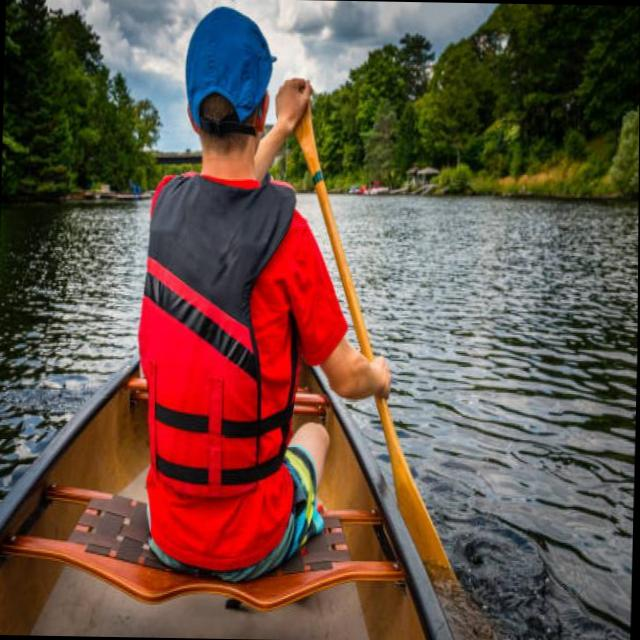no helmet: (169, 2, 284, 194)
